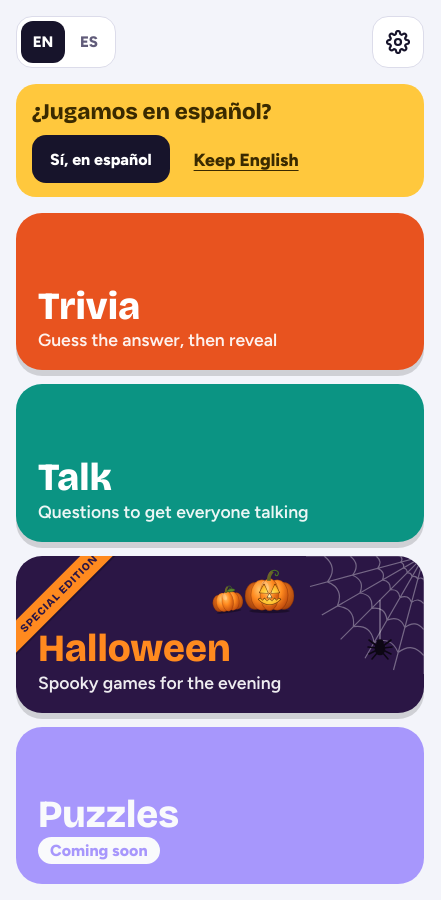
Test case: First-launch language suggestion › is hidden and not offered again once the player uses the toggle on Home
Check: the element "¿Jugamos en español?" is shown, box [16, 84, 424, 197]
Step 1. Click the button "EN" → [43, 42], box [21, 21, 65, 63]
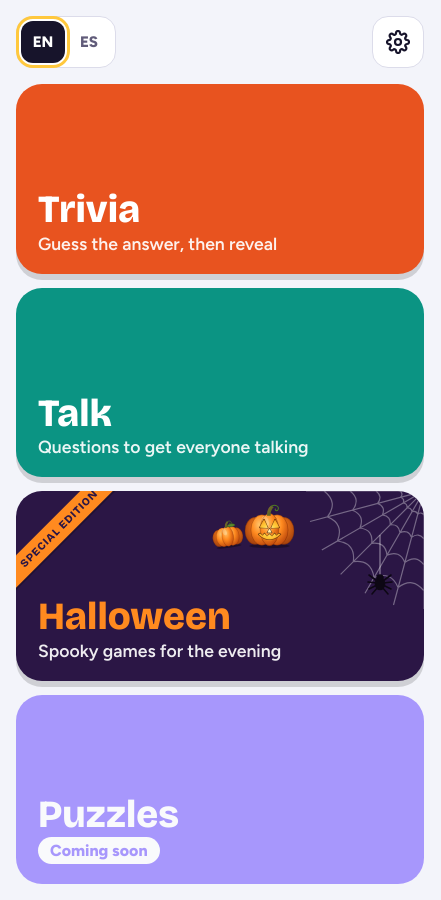
Check: the text "¿Jugamos en español?" is gone
